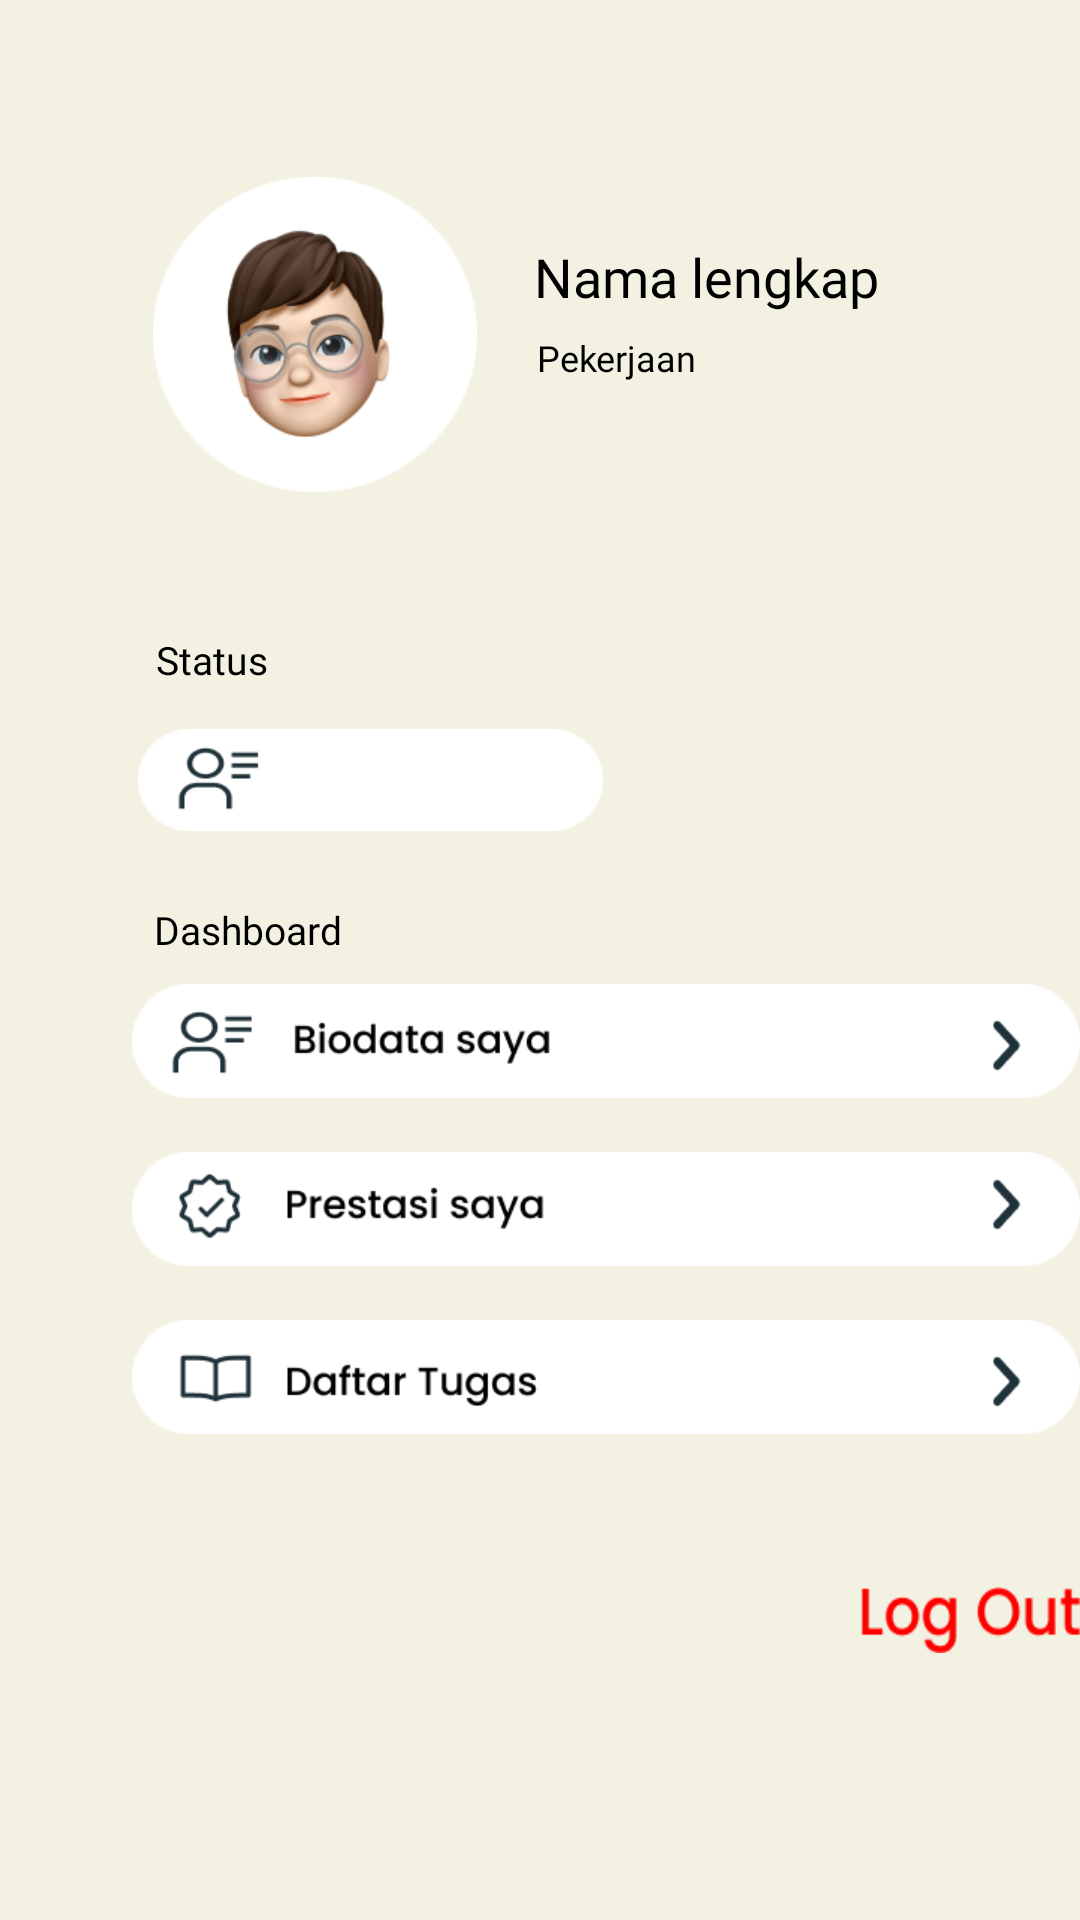

Icon bounding boxes for this 1080*1920 phone screenshot, format (x1, y1, x2, y2):
profil: (153, 177, 477, 492)
